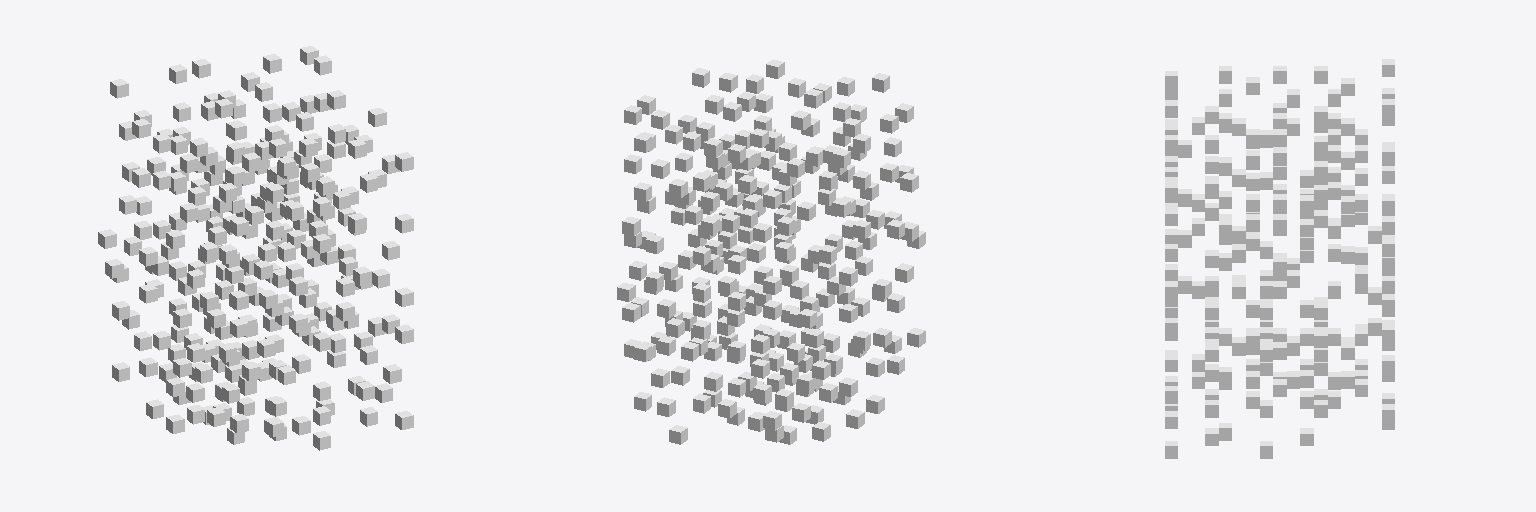
Rendered from fire-06.obj.
3 renders of one model, left to right at view 1: azimuth 30°, elevation 25°; view 2: azimuth 150°, elevation 25°; view 3: azimuth 270°, elevation 25°, orthographic.
Bounding box in the file's own units: 17 × 25 × 17.